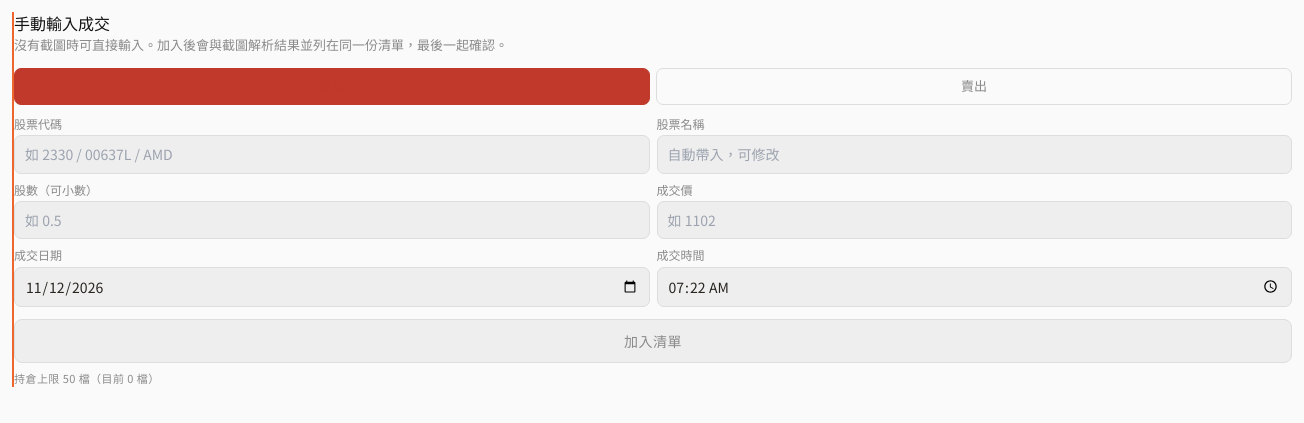
Test: T3 — code/name race、錯誤時機、input step、demo 0 mutation › TW step=1 整數、US step=any 可小數
Type "2330" into the field named "股票代碼" at (332,154), box [14,135,650,174]
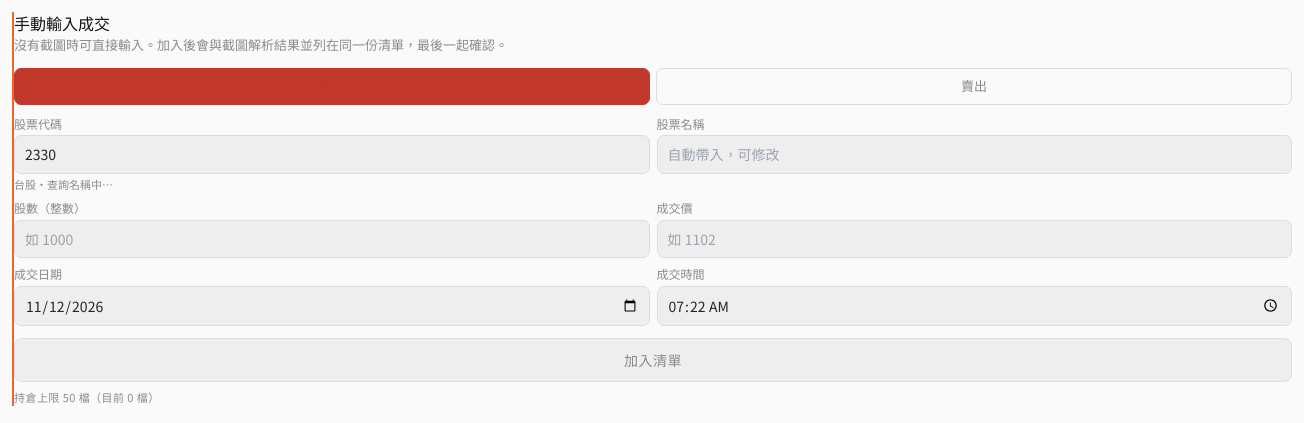
Result: the field named "股數" has attribute step="1" at [14,220,650,258]
Result: the field named "股數" has attribute inputmode="numeric" at [14,220,650,258]
Replace the text in the field named "股票代碼" with "AMD" at (332,154), box [14,135,650,174]
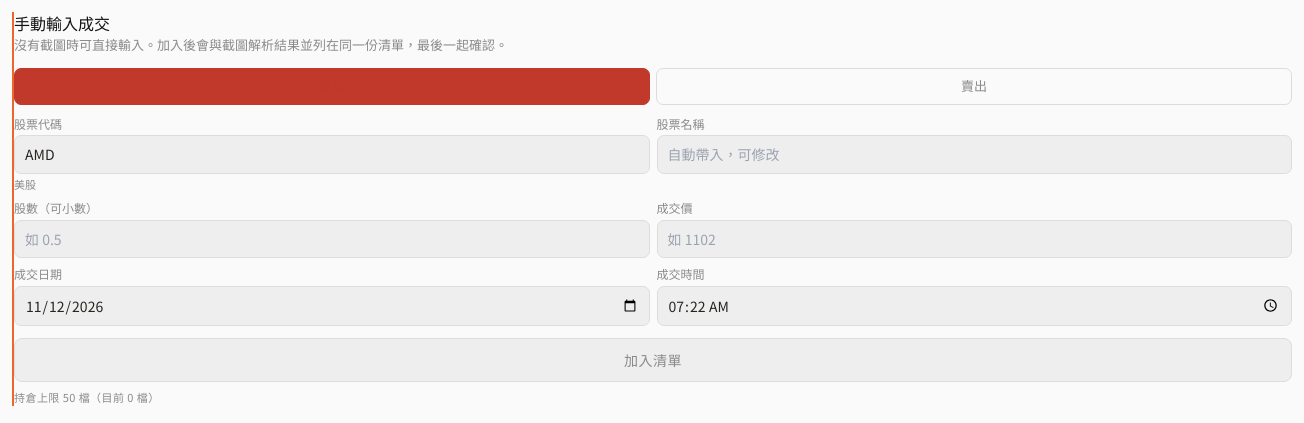
Result: the field named "股數" has attribute step="any" at [14,220,650,258]
Result: the field named "股數" has attribute inputmode="decimal" at [14,220,650,258]
